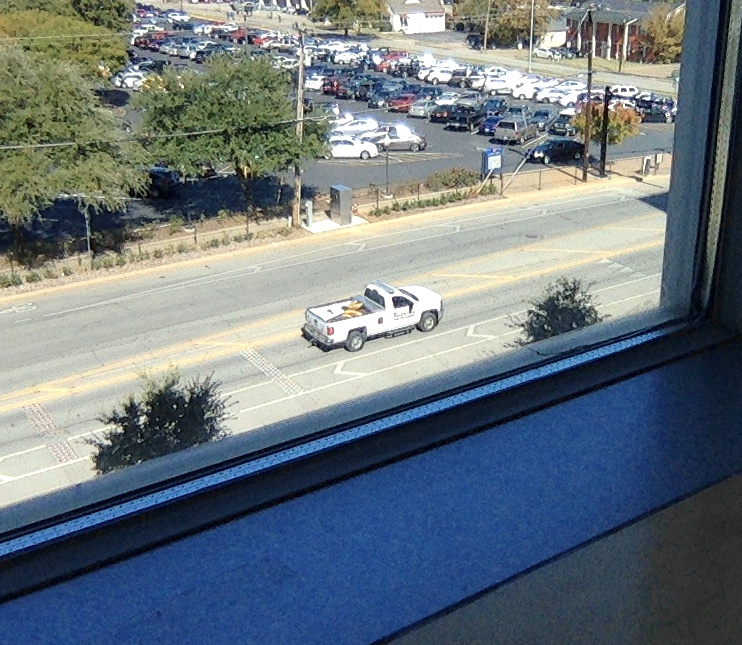car: (300, 300, 442, 354)
